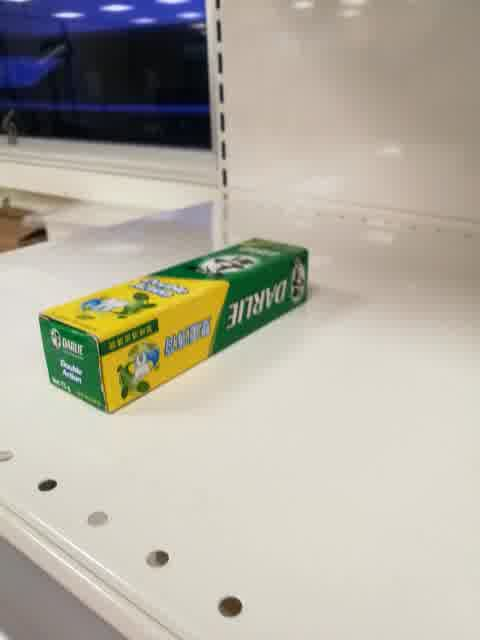toothpaste: (37, 237, 312, 414)
